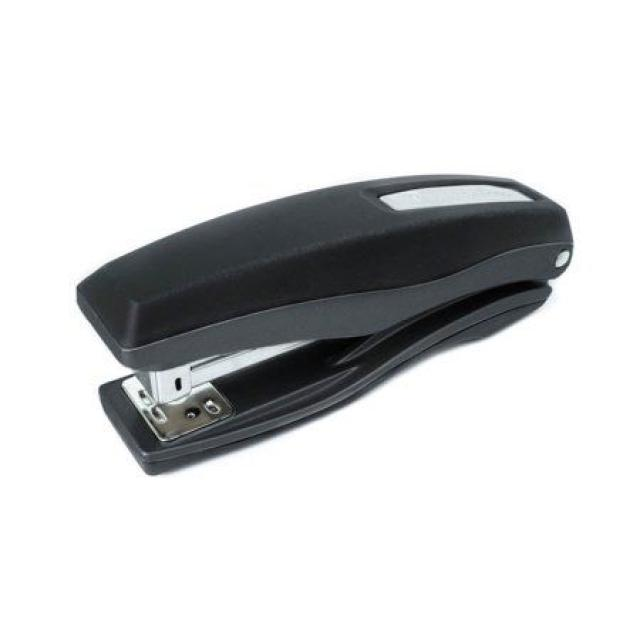Stapler: (0, 79, 606, 512)
